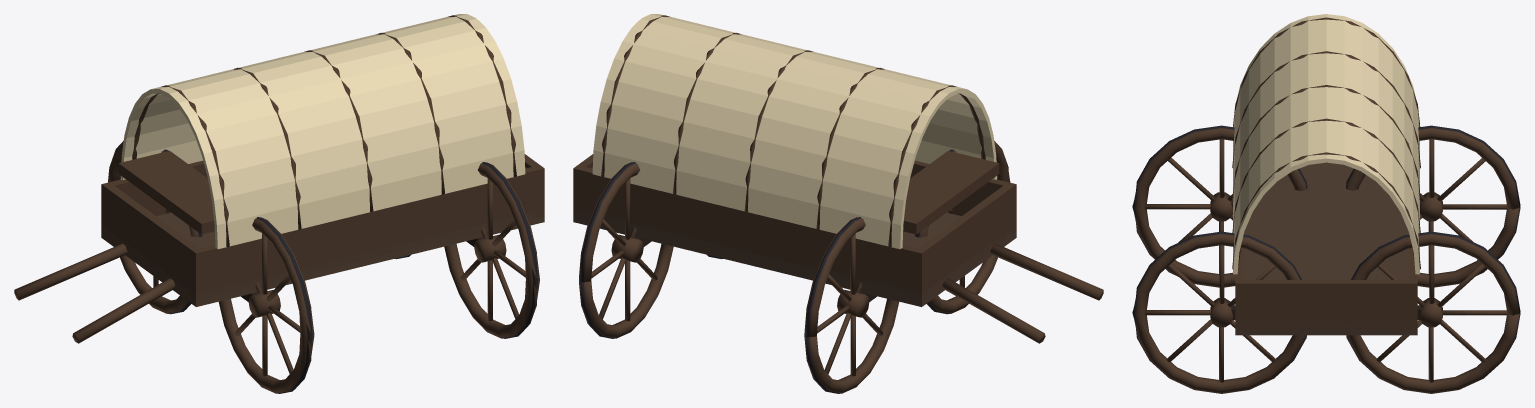
Rendered from wagon.glb.
The picture shows the model from 3 angles, left to right: view 1: azimuth 30°, elevation 25°; view 2: azimuth 150°, elevation 25°; view 3: azimuth 270°, elevation 25°; orthographic projection. The views are drawn at different scales.
Visible parts, largest first — view 1: wagon; view 2: wagon; view 3: wagon.
Part boxes in pixels (x1=…): wagon: x1=14, y1=14, x2=544, y2=393; wagon: x1=573, y1=14, x2=1103, y2=393; wagon: x1=1132, y1=14, x2=1520, y2=393.
Size of the model in its own units: 2.21 by 1.24 by 1.7.
